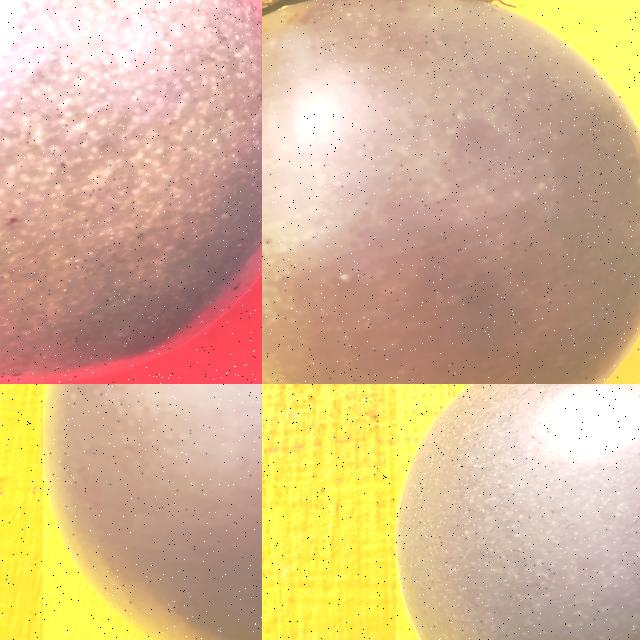Estado-5: (262, 0, 640, 384), (396, 384, 640, 640)
Estado-6: (44, 384, 262, 640)
